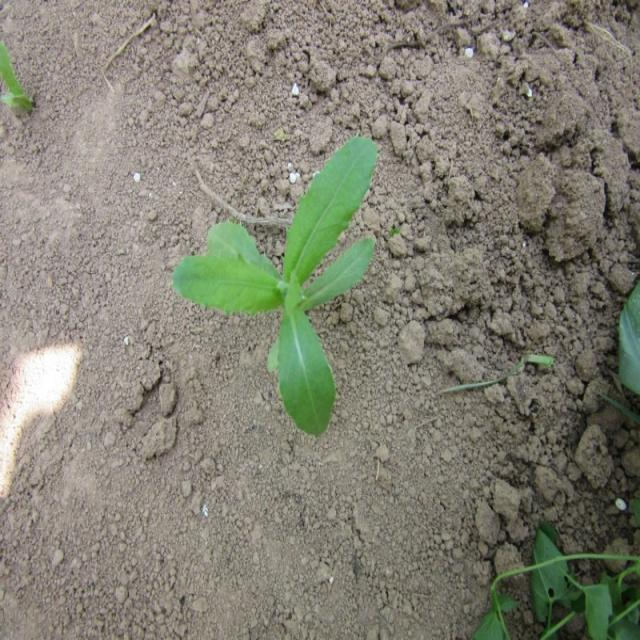field_thistle: (170, 134, 380, 422)
